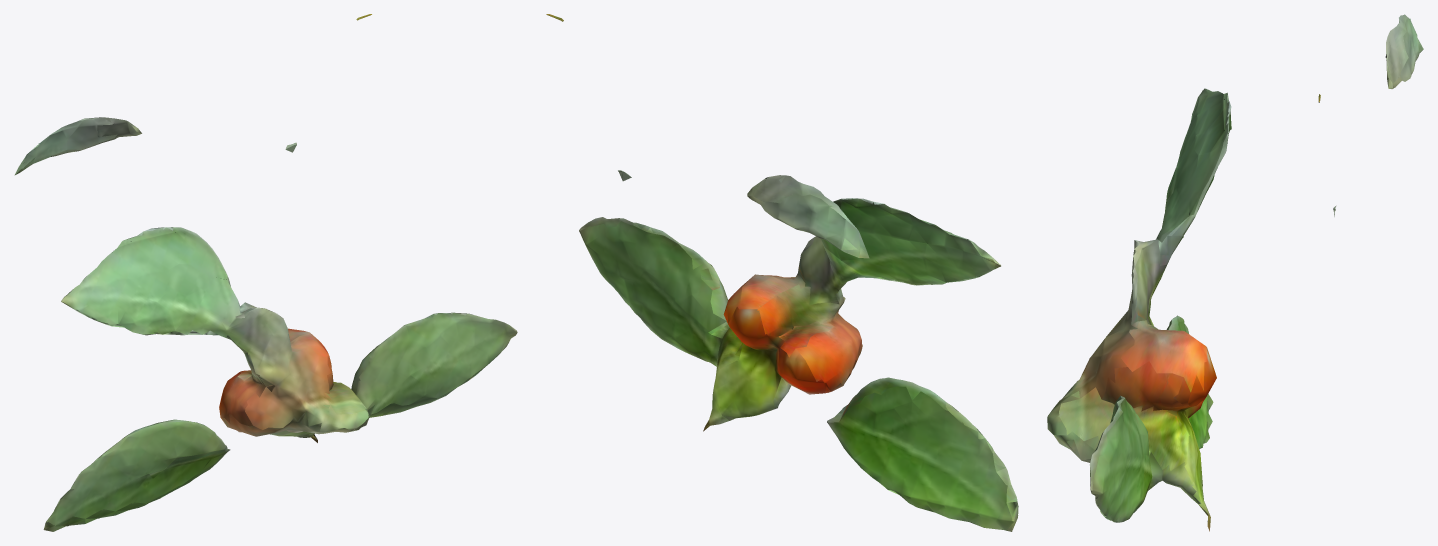
The model's file is ashwagandha.glb.
The picture shows the model from 3 angles, left to right: view 1: azimuth 30°, elevation 25°; view 2: azimuth 150°, elevation 25°; view 3: azimuth 270°, elevation 25°; orthographic projection. The views are drawn at different scales.
Visible parts, largest first — view 1: world; view 2: world; view 3: world.
Part boxes in pixels (x1,y1,x2,y2): world: [14, 14, 517, 531]; world: [546, 14, 1018, 531]; world: [1047, 14, 1423, 531].
Bounding box in the file's own units: 0.6194 × 0.5501 × 0.3593.
Materials: 1 (1 with a texture image).
